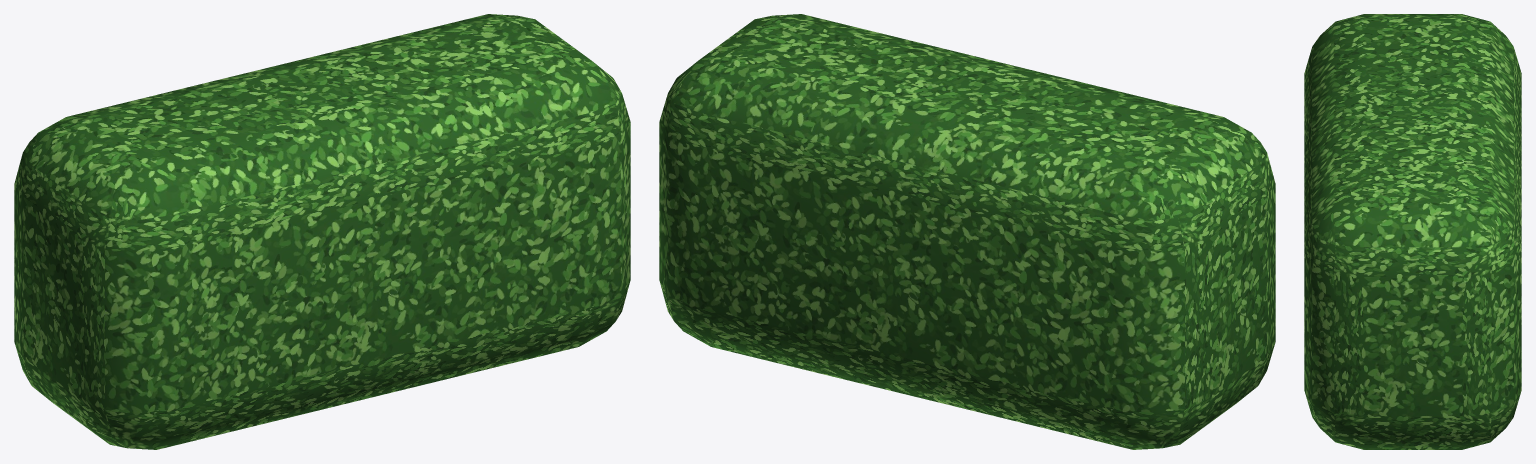
The model's file is hedge.glb.
The picture shows the model from 3 angles, left to right: view 1: azimuth 30°, elevation 25°; view 2: azimuth 150°, elevation 25°; view 3: azimuth 270°, elevation 25°; orthographic projection. The views are drawn at different scales.
Visible parts, largest first — view 1: hedge; view 2: hedge; view 3: hedge.
Boxes of the visible parts, x1=… form: hedge: x1=14, y1=14, x2=630, y2=449; hedge: x1=659, y1=14, x2=1275, y2=449; hedge: x1=1304, y1=14, x2=1521, y2=449.
Size of the model in its own units: 2 by 1 by 0.8.
Materials: 1 (1 with a texture image).
